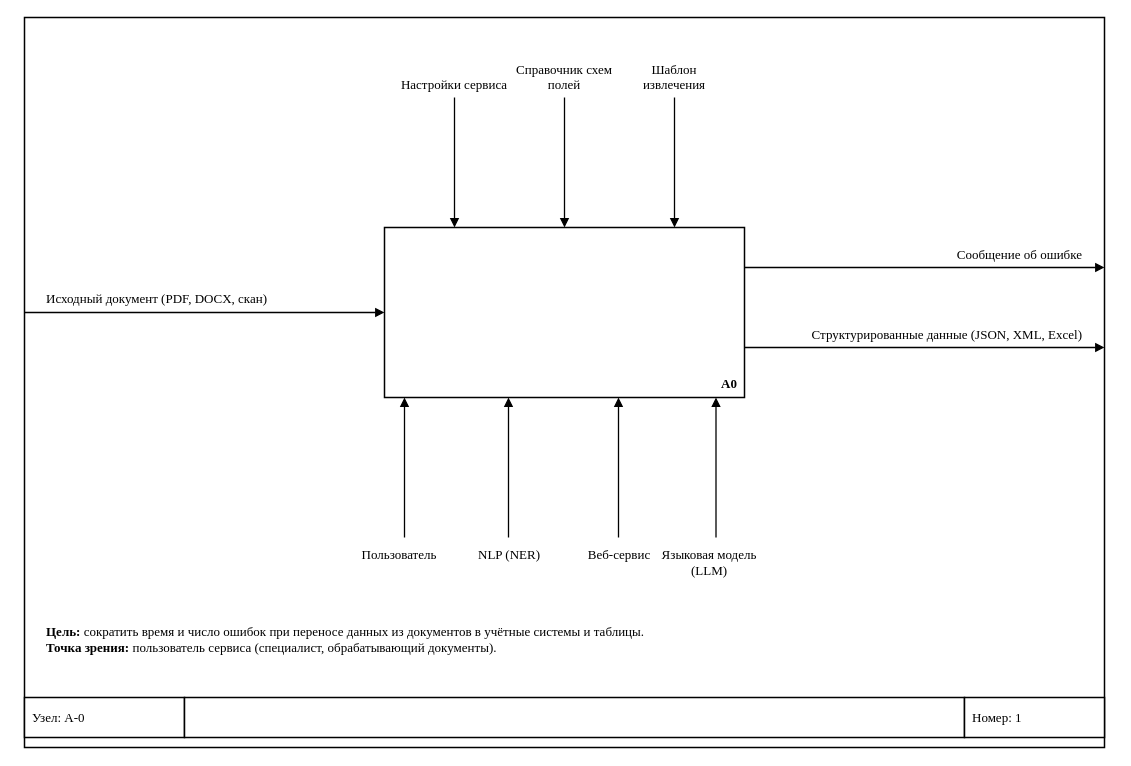
Image size: 1131x766. Some labels were removed from this diagram. The shapes that lost their labels are listed below. From the top down, each one's box as (x1, y1, x2, y2) in pixels, then its label:
(383, 226, 745, 398): Извлечь структурированные данные из документов по шаблонам
(183, 696, 965, 738): Название: Извлечь структурированные данные из документов по шаблонам
